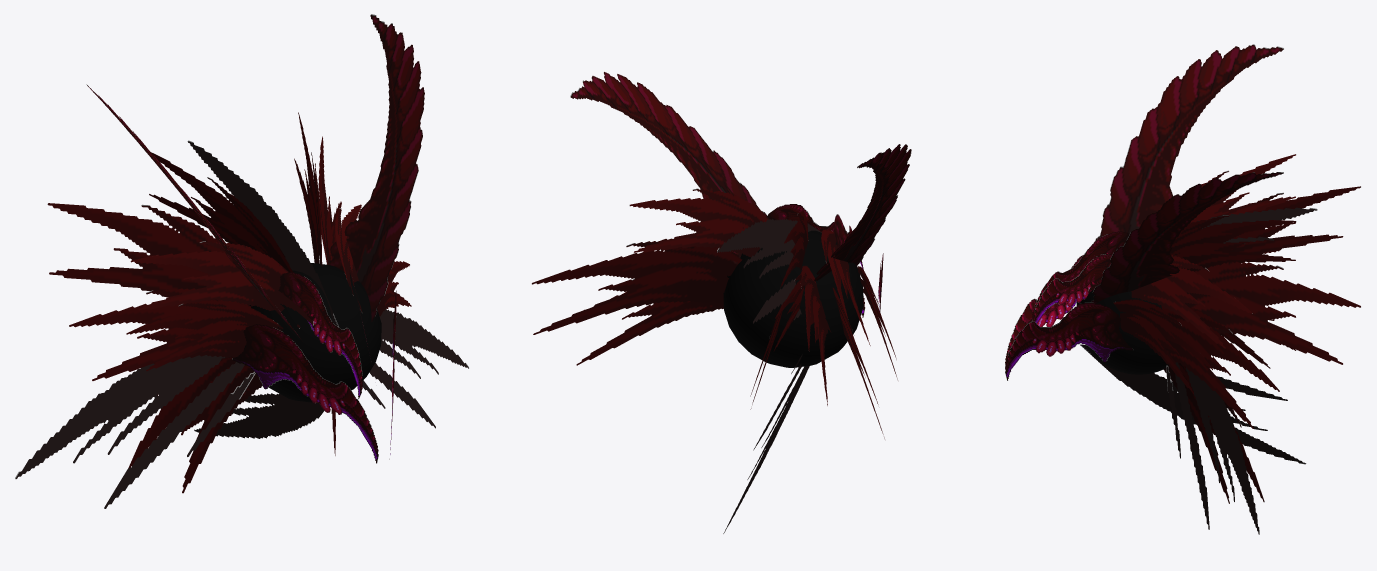
File: Anger_Body_Mesh.fbx
The picture shows the model from 3 angles, left to right: view 1: azimuth 30°, elevation 25°; view 2: azimuth 150°, elevation 25°; view 3: azimuth 270°, elevation 25°; orthographic projection. The views are drawn at different scales.
Parts seen in each view (by area): view 1: Anger_Body_Details, Middle; view 2: Anger_Body_Details, Middle; view 3: Anger_Body_Details, Middle.
Part boxes in pixels (<box>): Anger_Body_Details: <box>15,14,469,508</box>; Middle: <box>245,263,381,402</box>; Anger_Body_Details: <box>531,72,911,533</box>; Middle: <box>723,230,863,367</box>; Anger_Body_Details: <box>1005,44,1360,534</box>; Middle: <box>1076,290,1168,374</box>.
Size of the model in its own units: 690 by 660 by 555.
2 materials, 1 textured.
